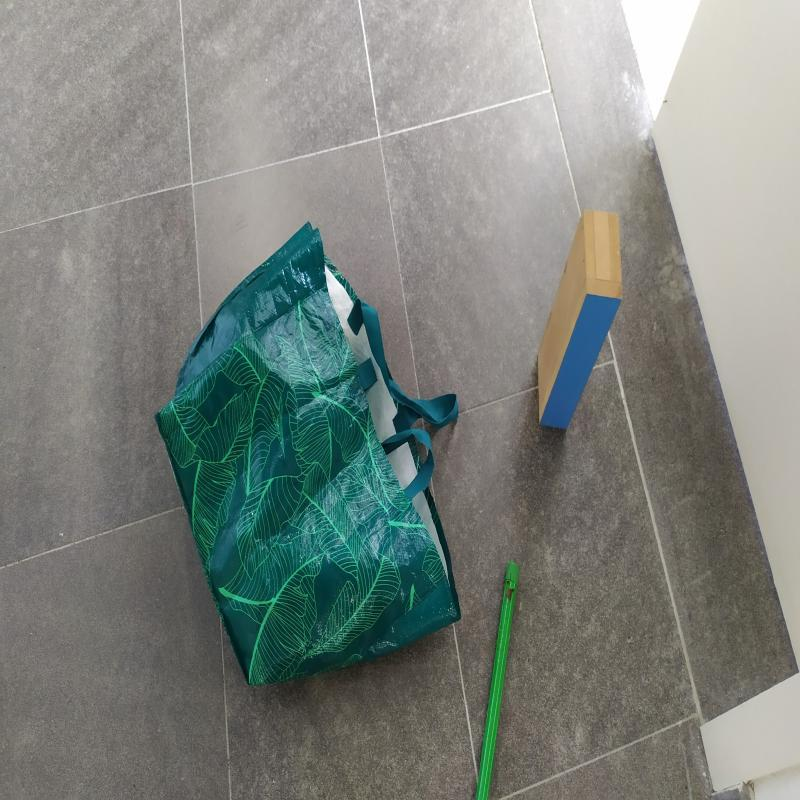Bag: (163, 220, 470, 694)
